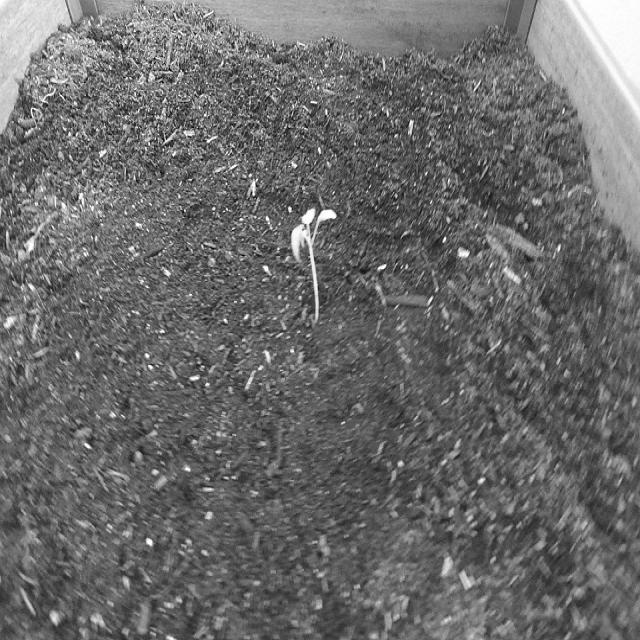Healthy: (288, 200, 339, 324)
